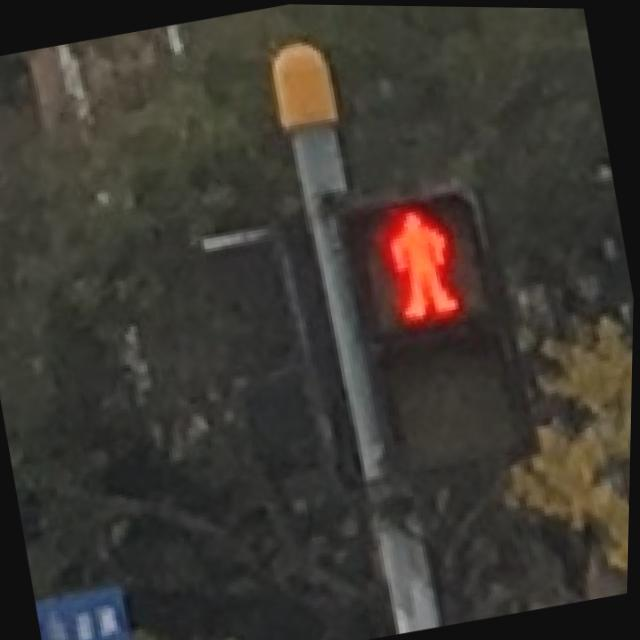red_light: (363, 187, 487, 332)
